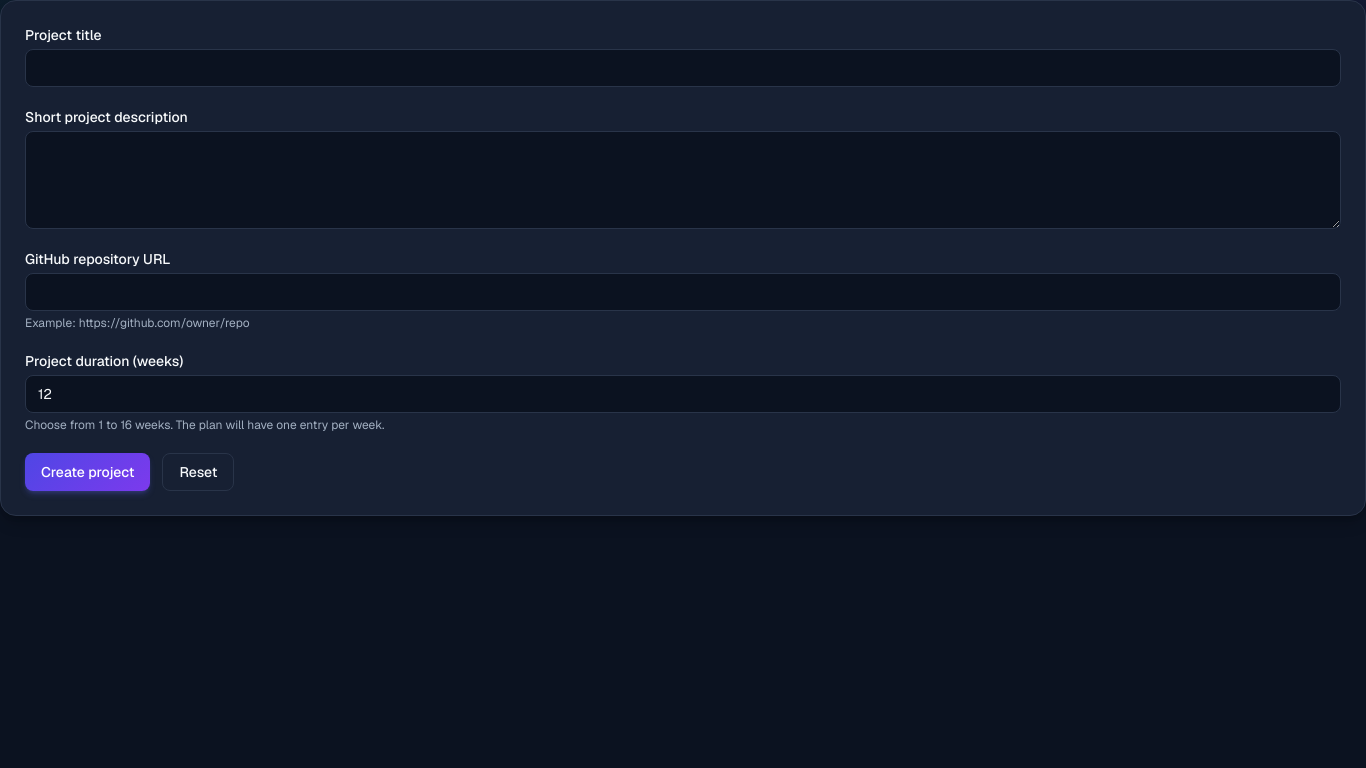
Test case: ProjectForm › submits the duration the user chose
Type "Smart Attendance" into the field labelled "Project title" at (683,68), box 25,49 -> 1341,87
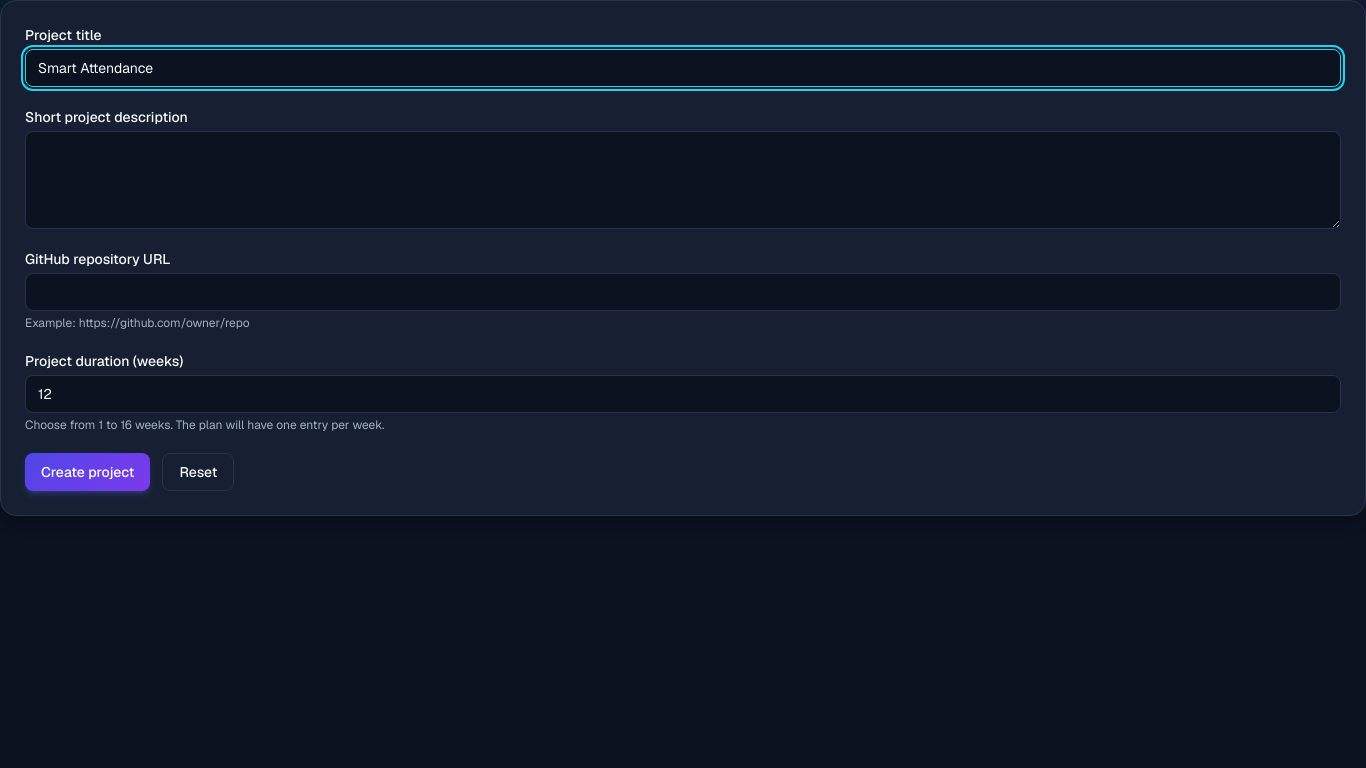
Type "A system that marks attendance using face recognition." into the text box labelled "Short project description" at (683,180), box 25,131 -> 1341,229
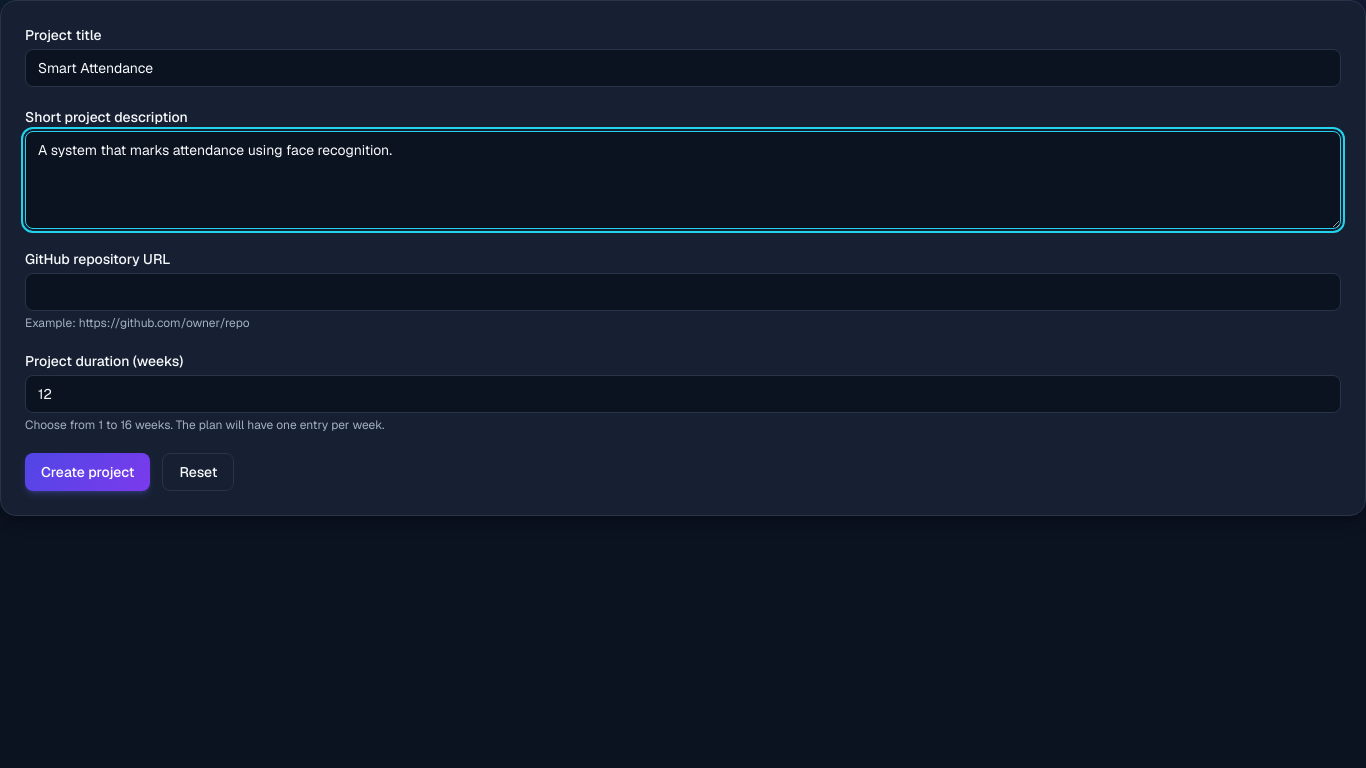
Type "https://github.com/octocat/hello-world" into the field labelled "GitHub repository URL" at (683,292), box 25,273 -> 1341,311
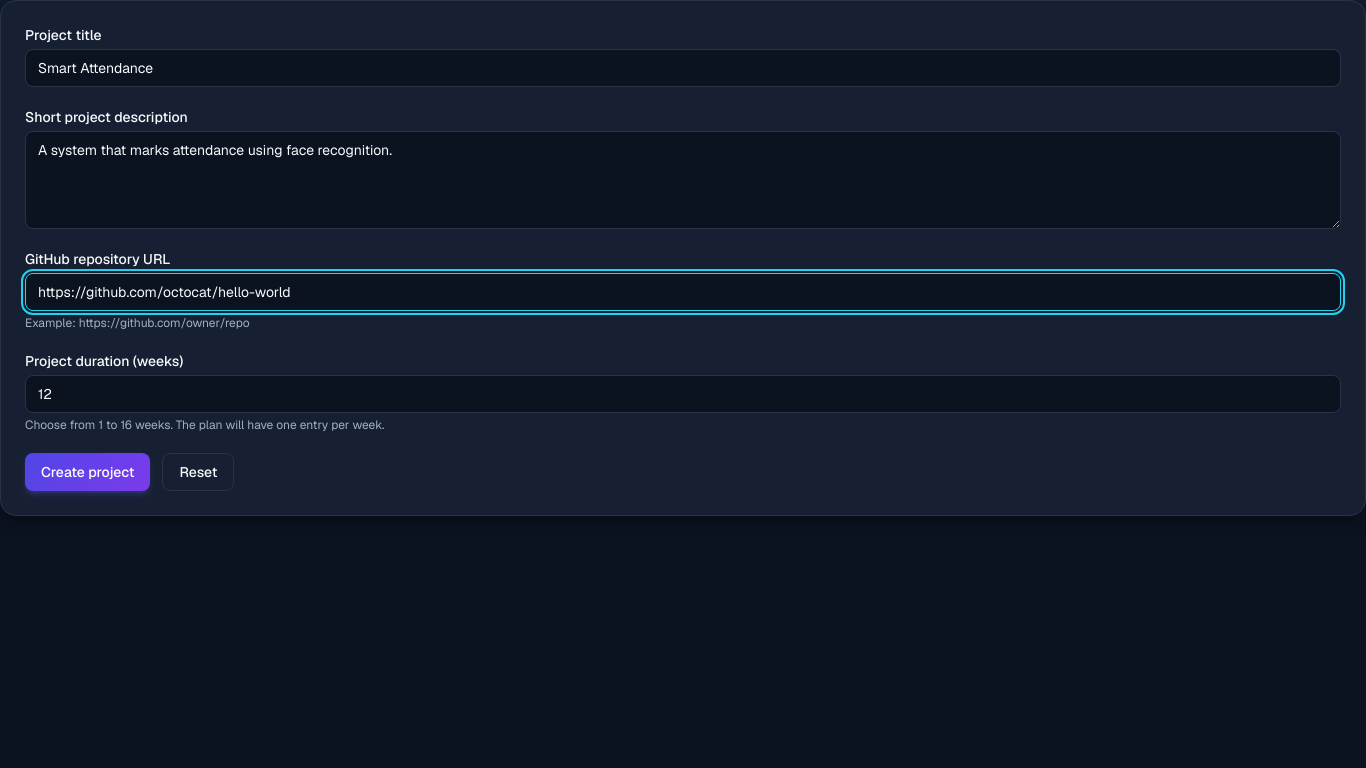
Replace the text in the number field labelled "Project duration (weeks)" with "4" at (683,394), box 25,375 -> 1341,413
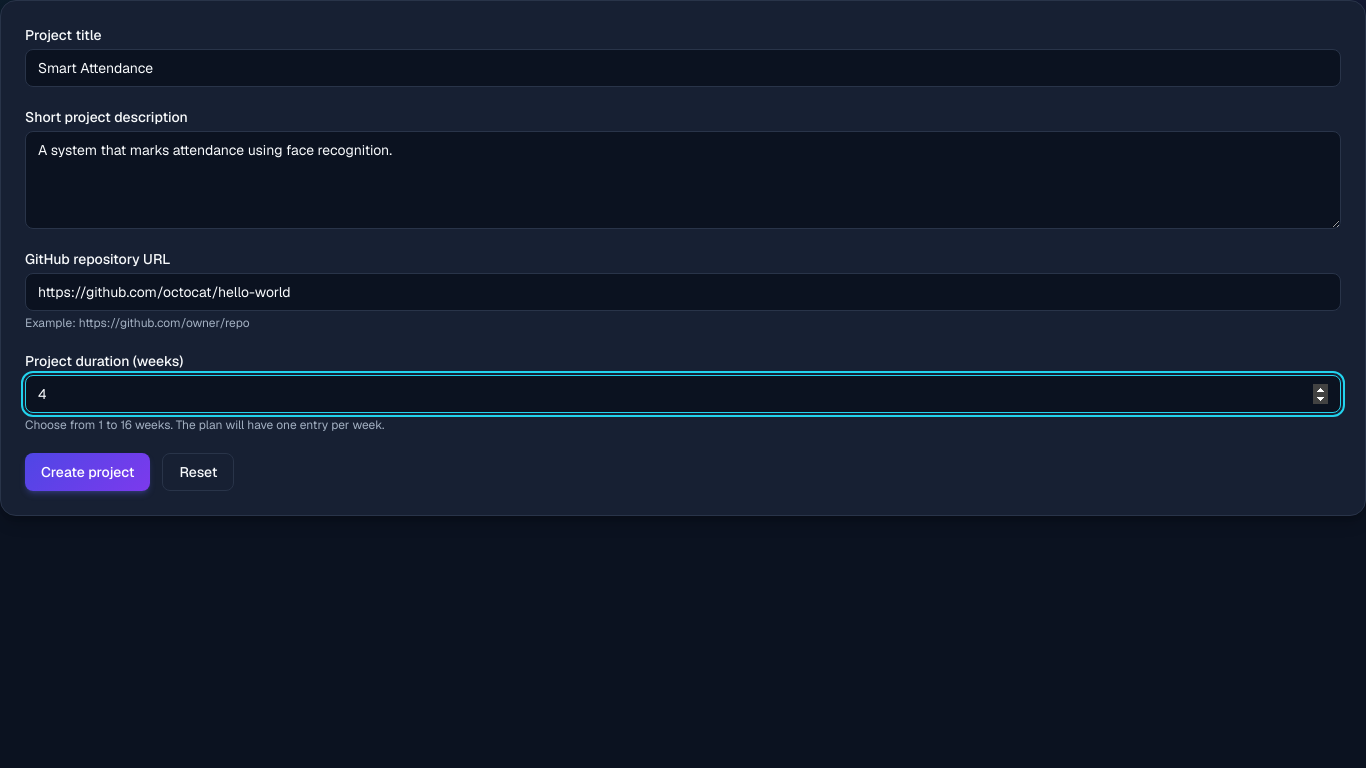
Click the button "Create project" at (88,472), box 25,453 -> 150,491
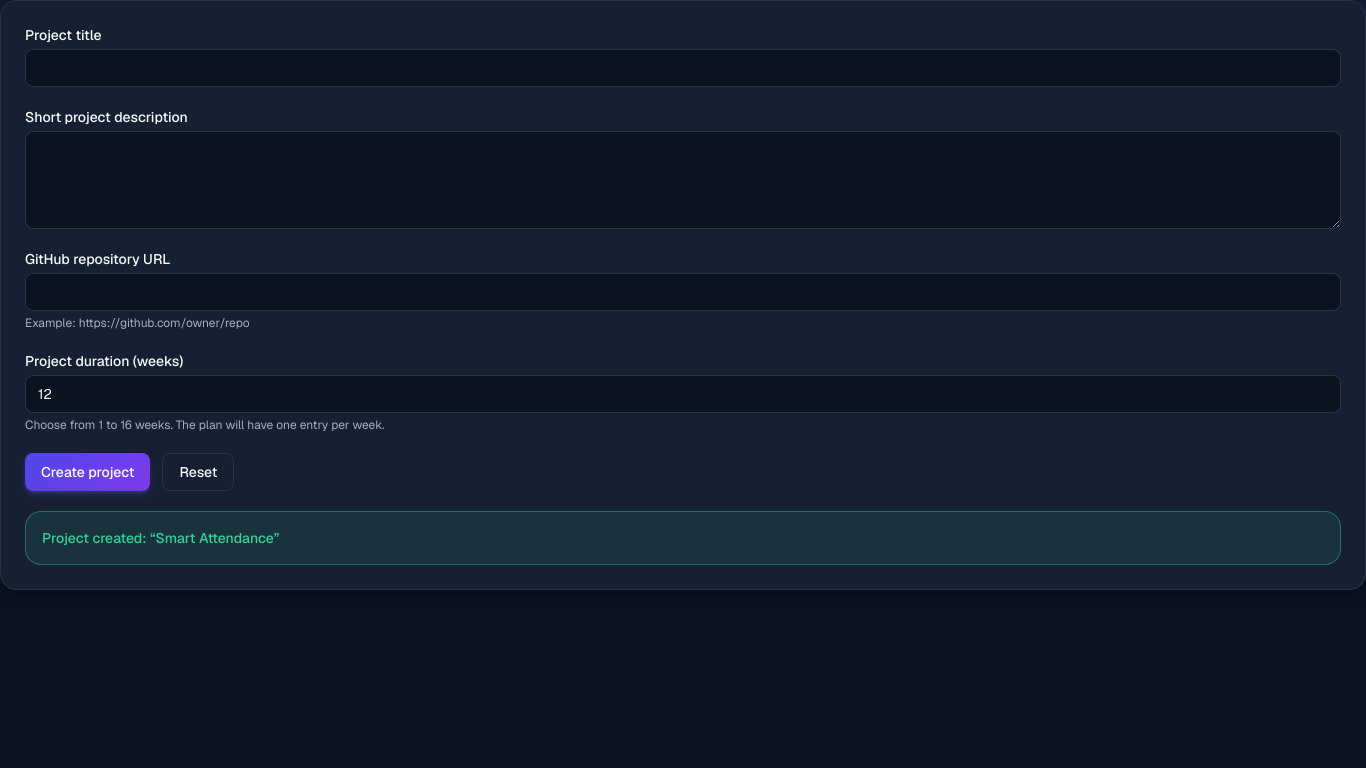
Result: the message shows "Project created" at 42,529 -> 156,547
Result: the number field labelled "Project duration (weeks)" holds "12" at 25,375 -> 1341,413
